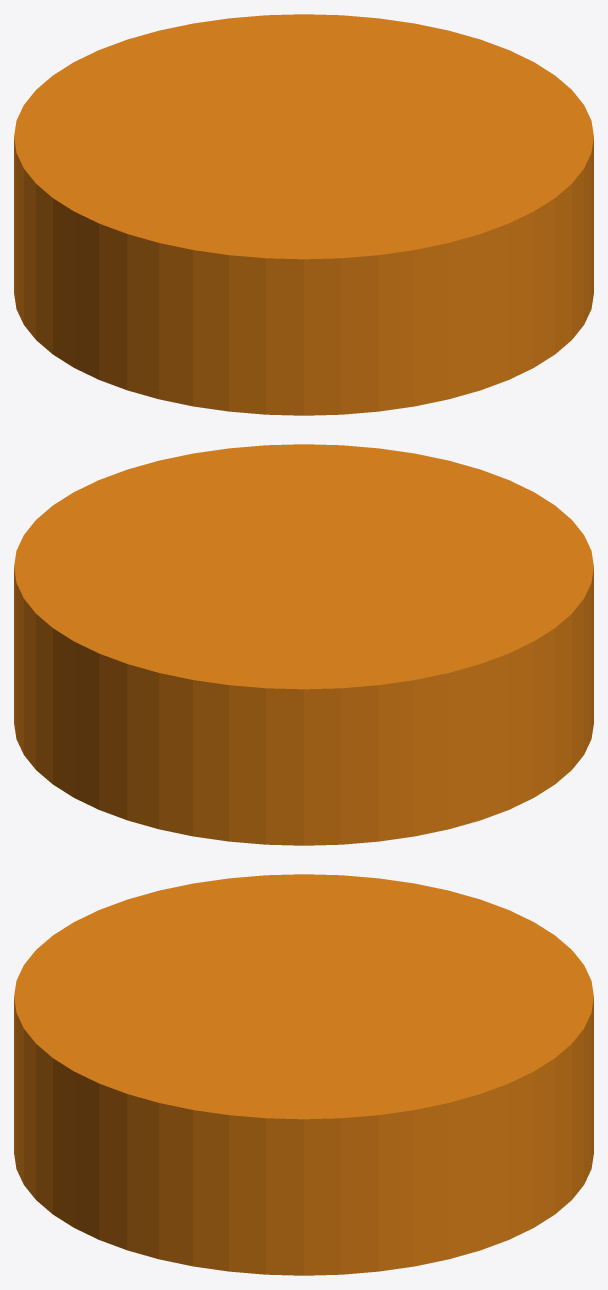
Rendered from reagent_cap_black_04.glb.
3 renders of one model, top to bottom at view 1: azimuth 30°, elevation 25°; view 2: azimuth 150°, elevation 25°; view 3: azimuth 270°, elevation 25°, orthographic.
Parts seen in each view (by area): view 1: World_Lab_reagent_cap_black_04_CleanVisual; view 2: World_Lab_reagent_cap_black_04_CleanVisual; view 3: World_Lab_reagent_cap_black_04_CleanVisual.
Part boxes in pixels (box(x1,y1,x2,y2)): World_Lab_reagent_cap_black_04_CleanVisual: box(14, 14, 593, 415); World_Lab_reagent_cap_black_04_CleanVisual: box(14, 444, 593, 845); World_Lab_reagent_cap_black_04_CleanVisual: box(14, 874, 593, 1275).
Bounding box in the file's own units: 0.0336 × 0.01 × 0.0336.
